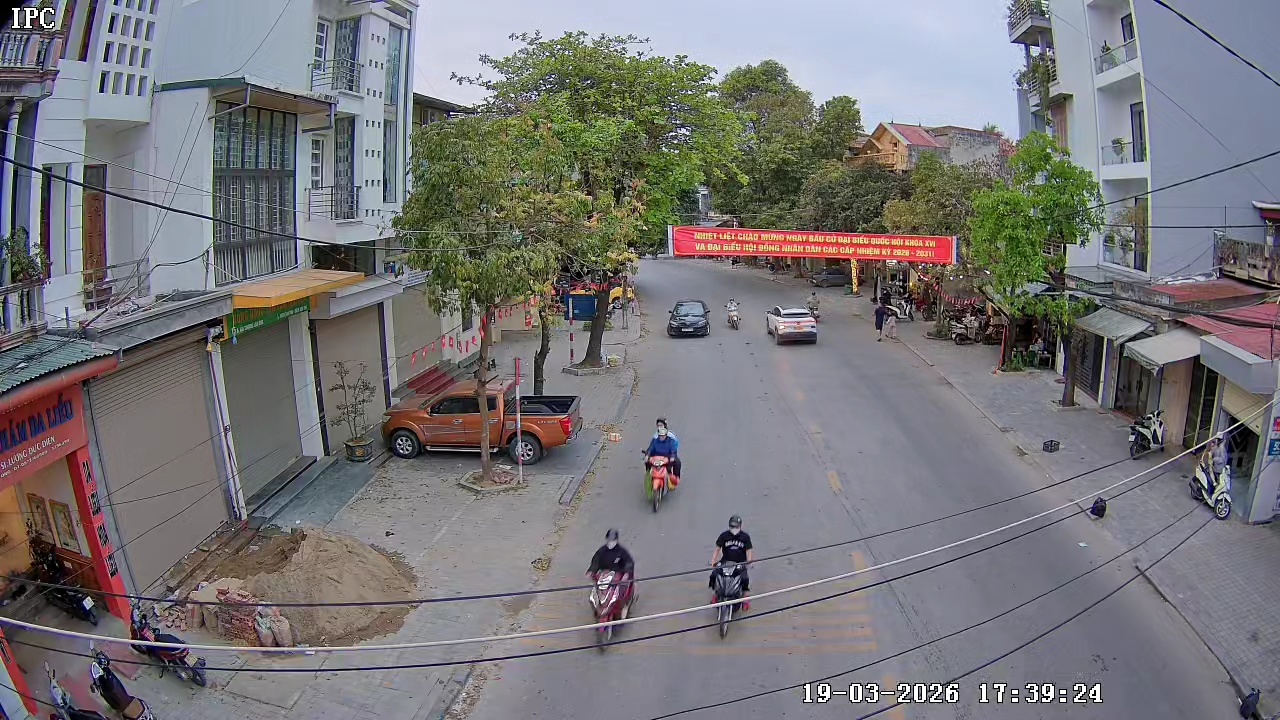car: (766, 304, 820, 345), (666, 298, 711, 338)
motorbike: (585, 526, 640, 652), (704, 515, 756, 640), (640, 418, 681, 514), (725, 299, 741, 330)
truck: (379, 371, 583, 461)
